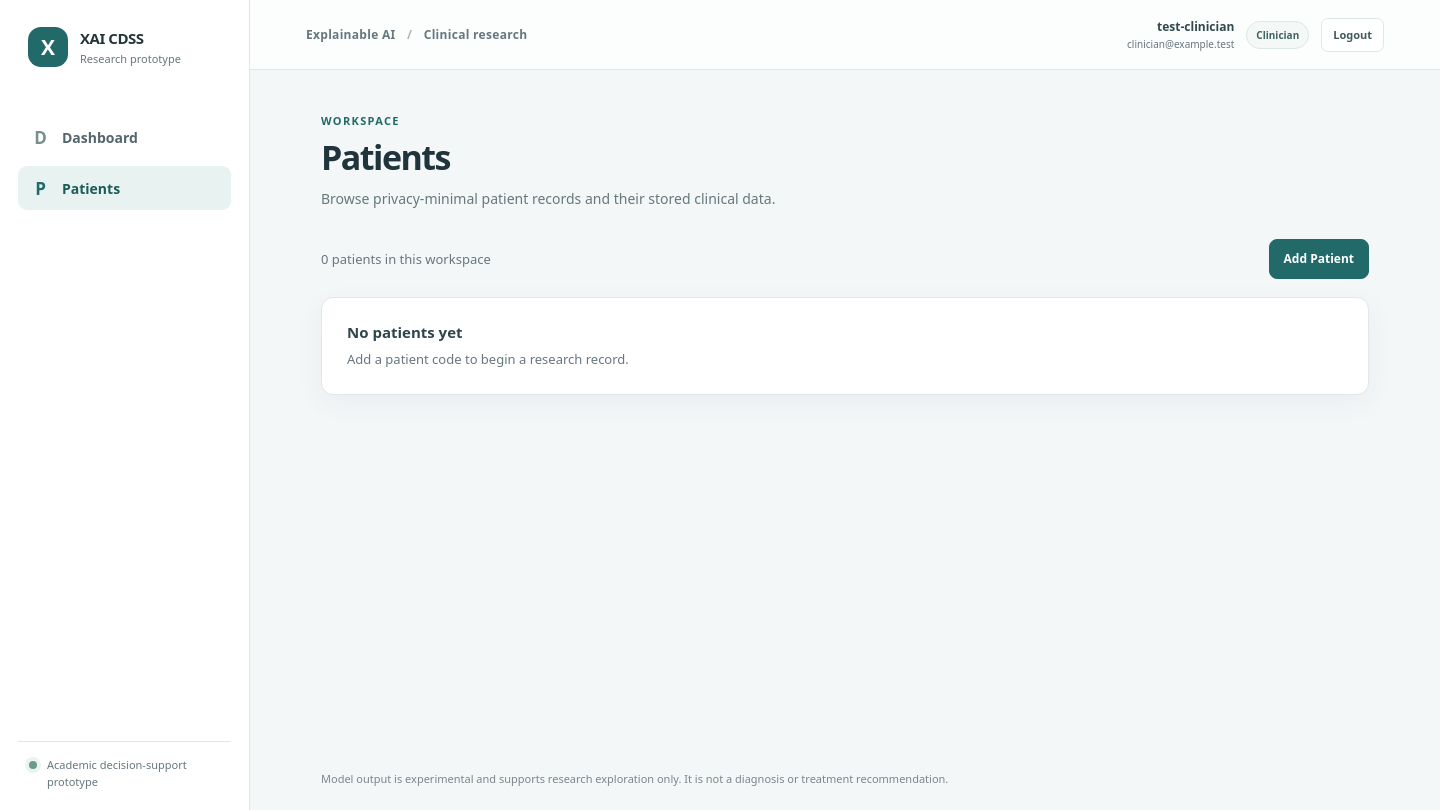
Scenario: patient management UI › shows a clean duplicate patient code error
The width and height of the screenshot is (1440, 810).
Click the button "Add Patient".
click(1319, 259)  # box 1269,239 -> 1369,279
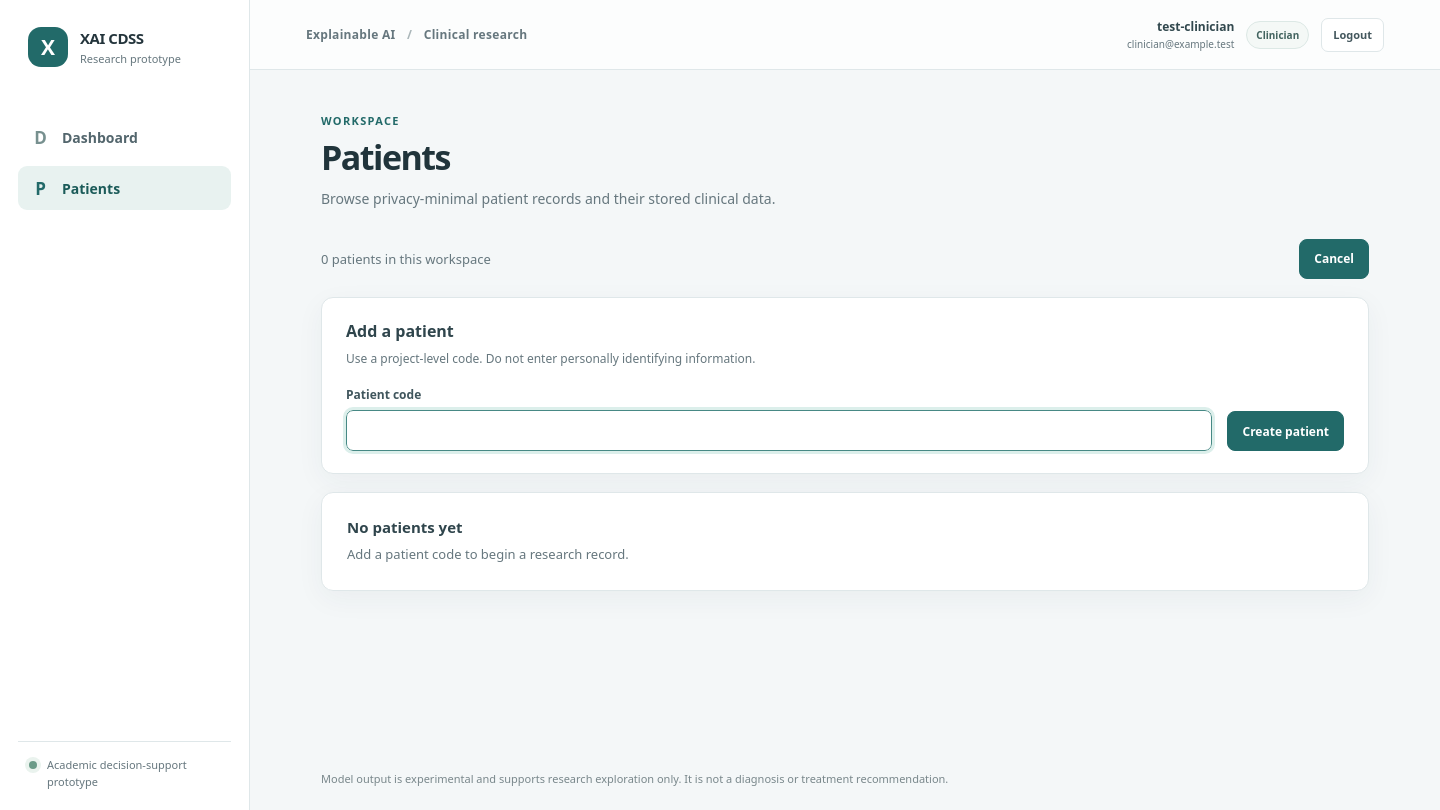
Type "RESEARCH-008" into the field labelled "Patient code".
click(779, 431); type("RESEARCH-008")  # box 346,410 -> 1212,452
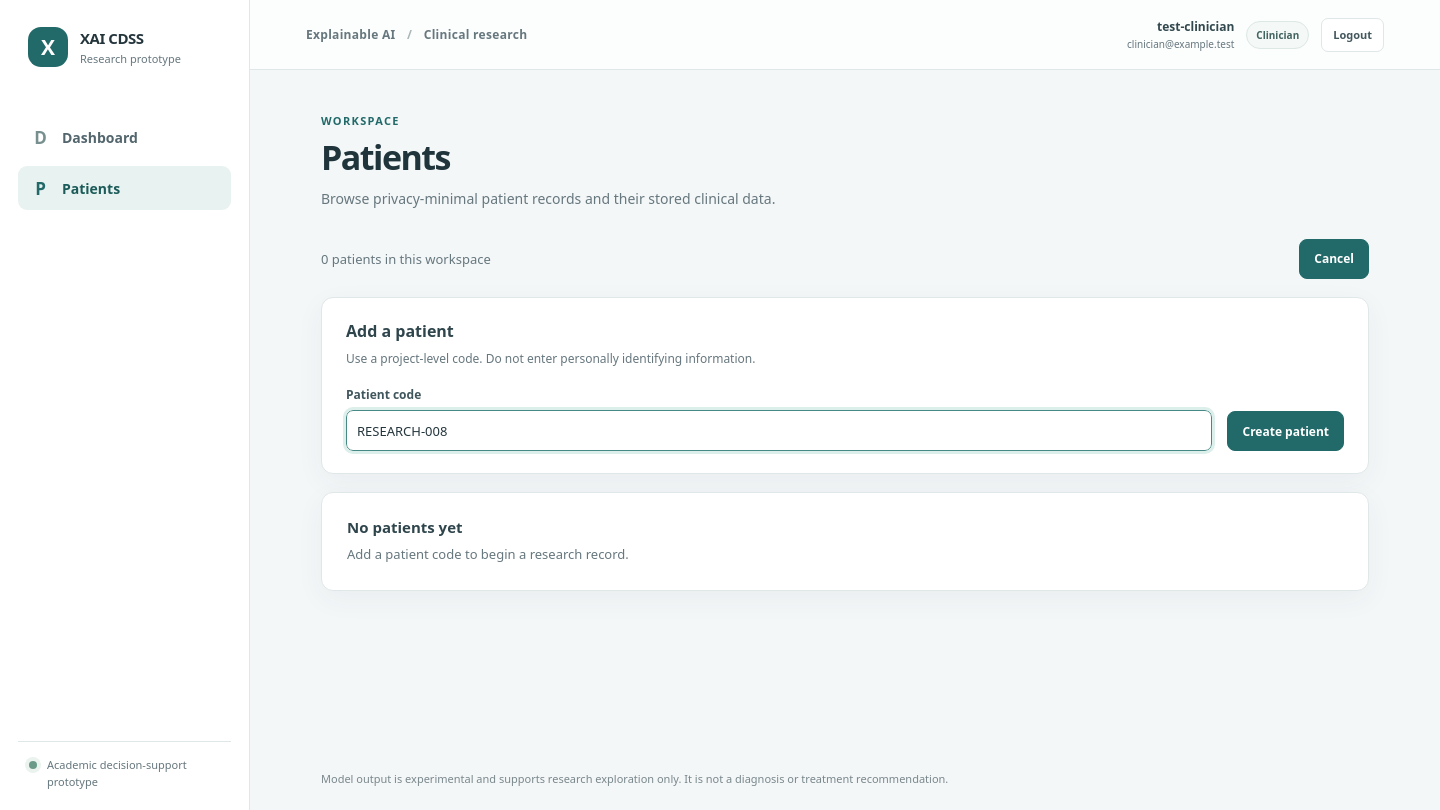
Click the button "Create patient".
click(1286, 432)  # box 1228,412 -> 1344,452
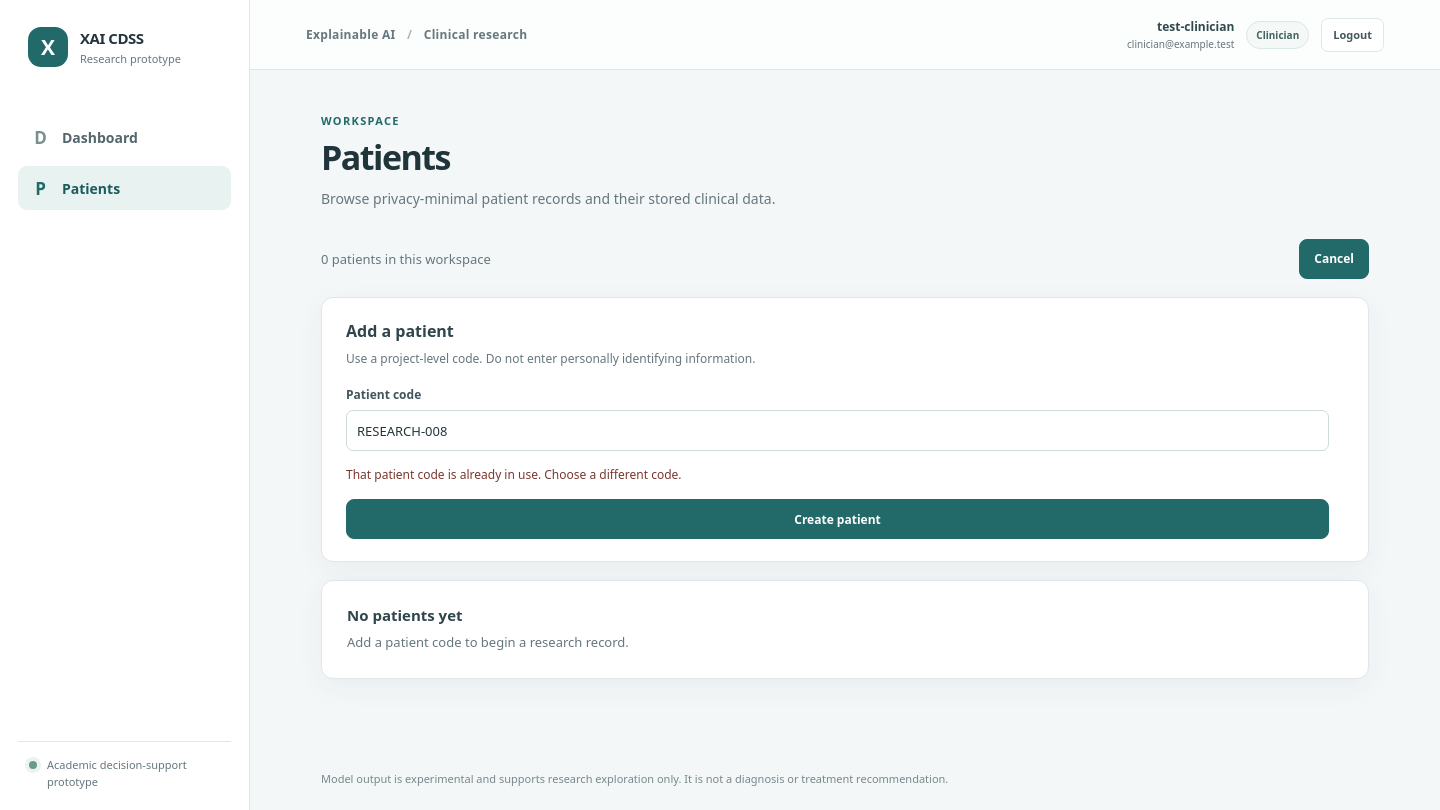
Result: the text "That patient code is already in use. Choose a different code." is shown at 346,466 -> 682,484
